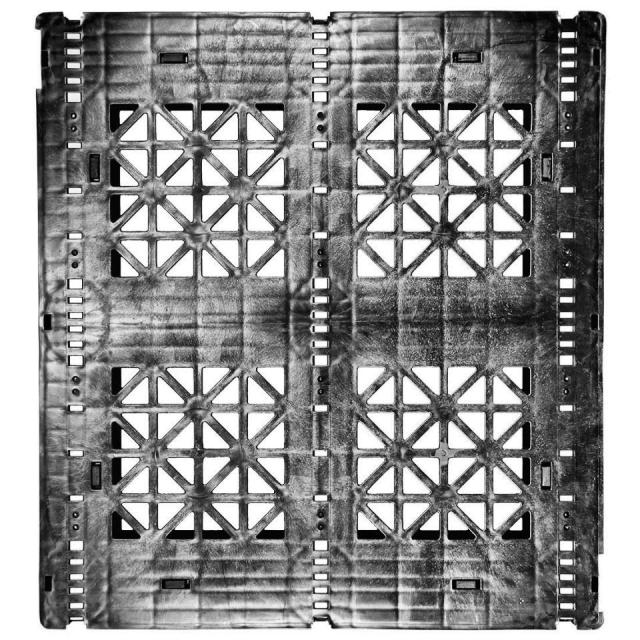non-igps: (30, 5, 611, 633)
